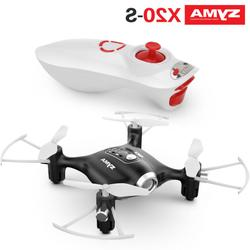drone: (1, 112, 250, 242)
